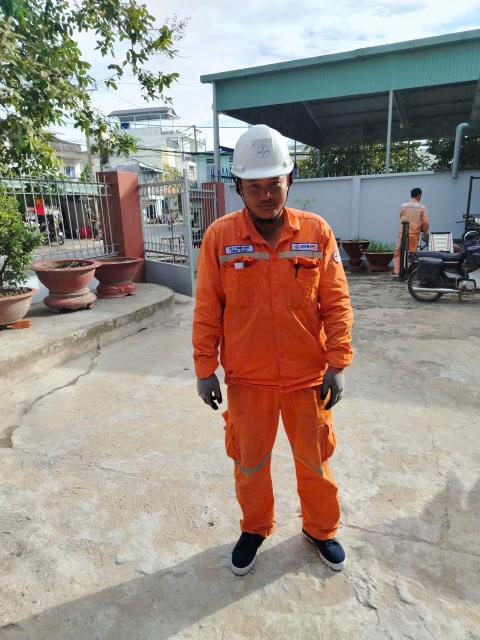gloves: (178, 375, 227, 412), (315, 364, 354, 409)
helmet: (215, 112, 301, 191)
shoes: (223, 505, 270, 579), (295, 529, 369, 576)
